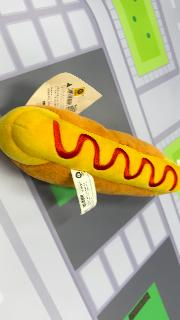hotdog: (1, 104, 179, 198)
